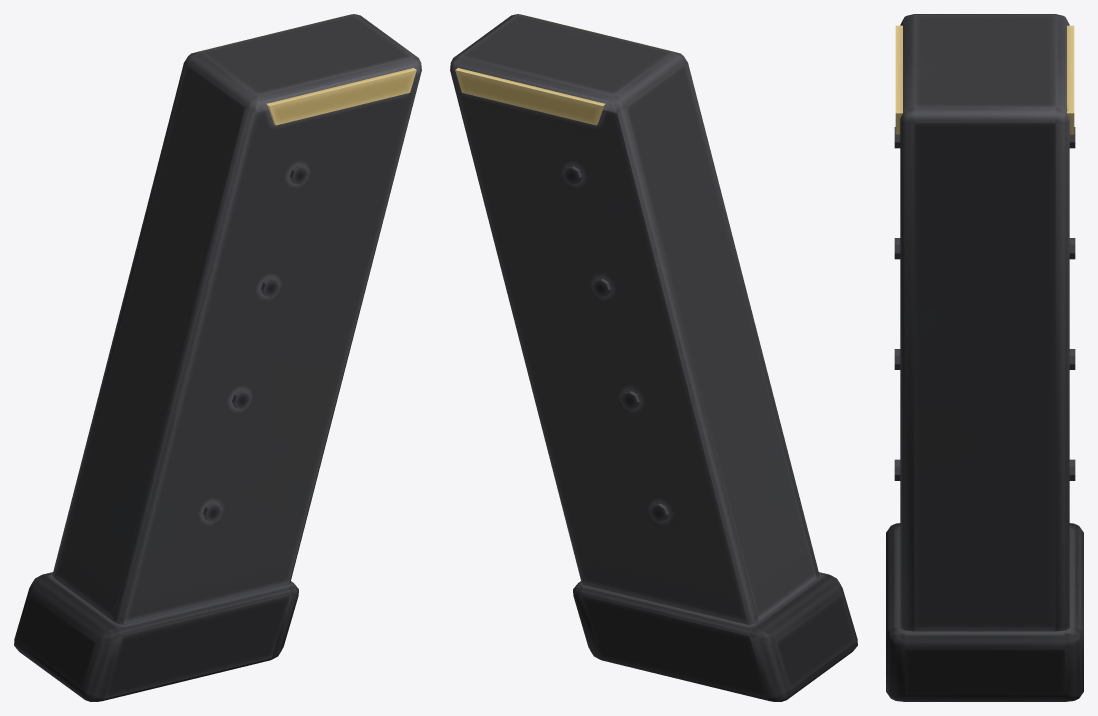
File: AT_VikorMag.fbx
3 renders of one model, left to right at view 1: azimuth 30°, elevation 25°; view 2: azimuth 150°, elevation 25°; view 3: azimuth 270°, elevation 25°, orthographic. The views are drawn at different scales.
Visible parts, largest first — view 1: AT_VikorMag; view 2: AT_VikorMag; view 3: AT_VikorMag.
Boxes of the visible parts, <box> form: AT_VikorMag: <box>14,14,421,701</box>; AT_VikorMag: <box>450,14,857,701</box>; AT_VikorMag: <box>886,14,1083,701</box>.
Bounding box in the file's own units: 0.0509 × 0.08 × 0.021.
Materials: 1 (1 with a texture image).
